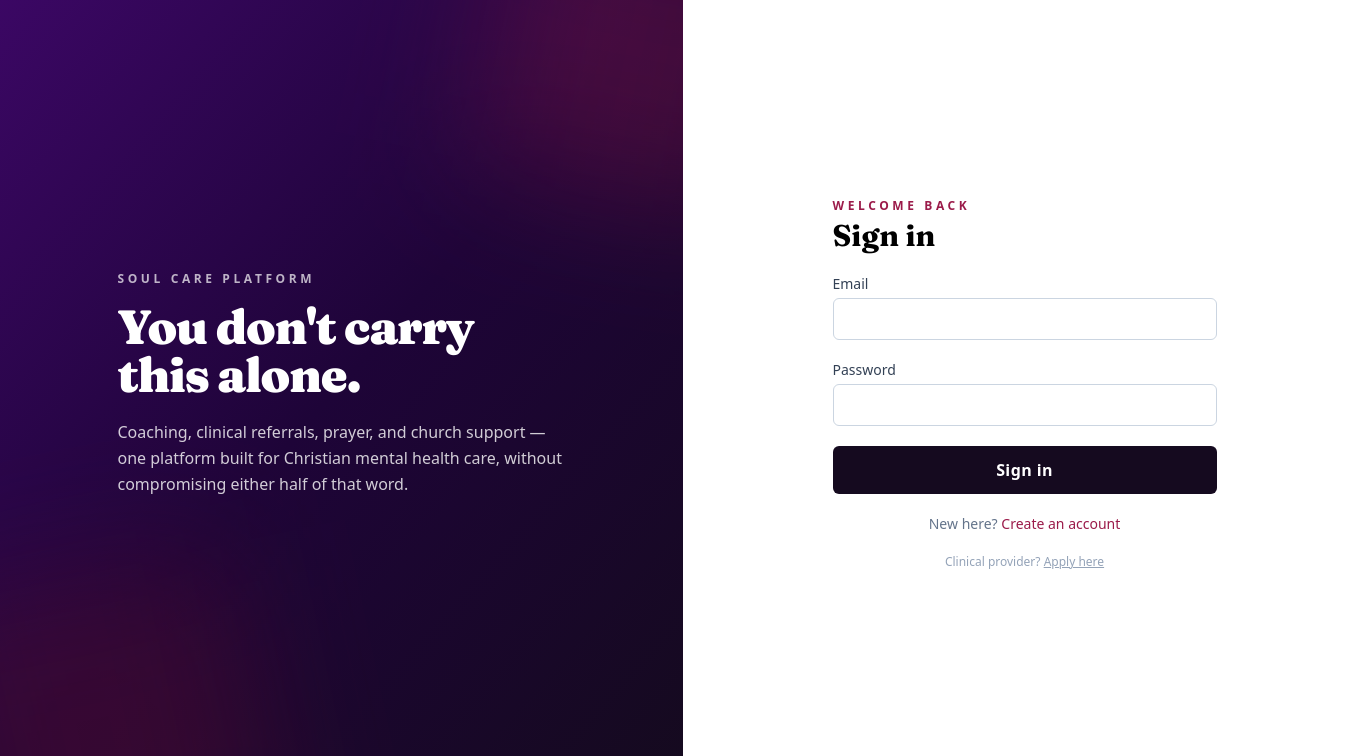
it: App — login flow › logs in as a platform admin and reaches the admin dashboard
The width and height of the screenshot is (1366, 756).
In the field labelled "Email": (1024, 319) [832, 298, 1216, 340], type "admin@example.com"
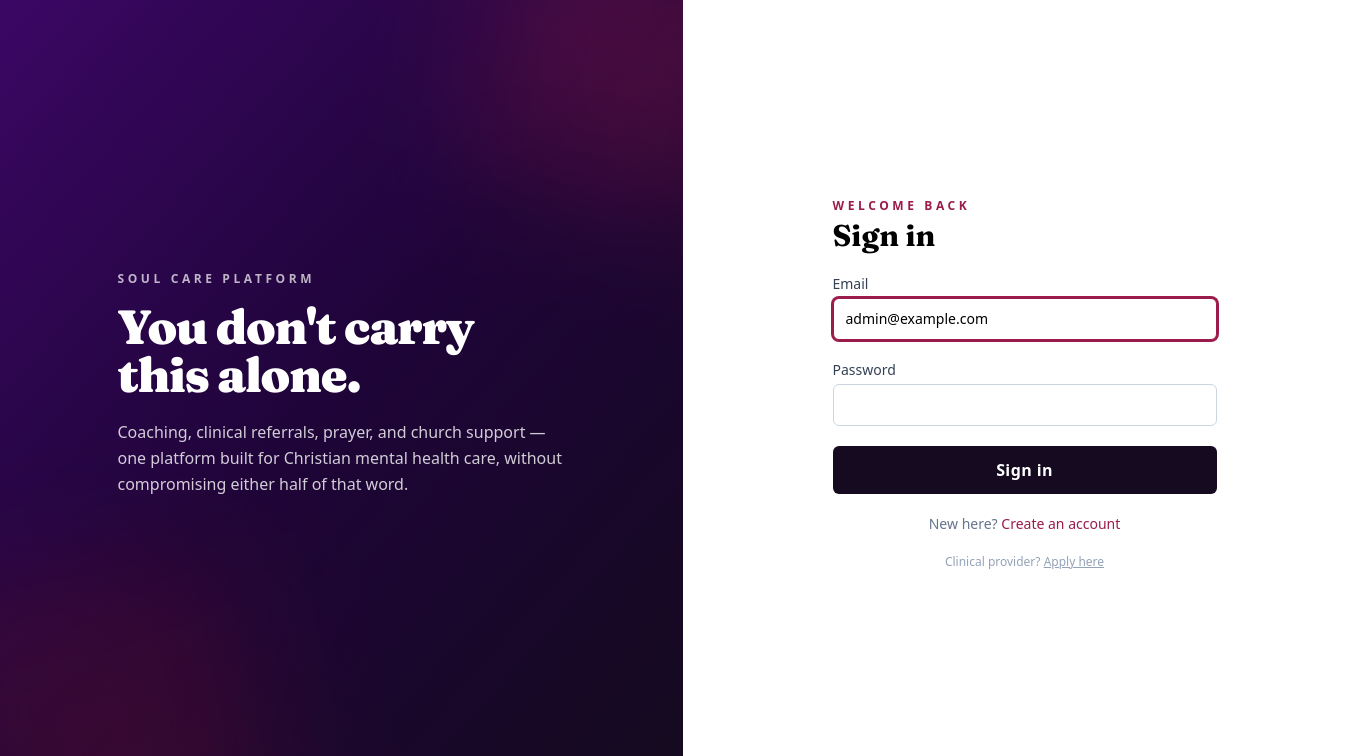
In the password field labelled "Password": (1024, 405) [832, 384, 1216, 426], type "correcthorsebattery"
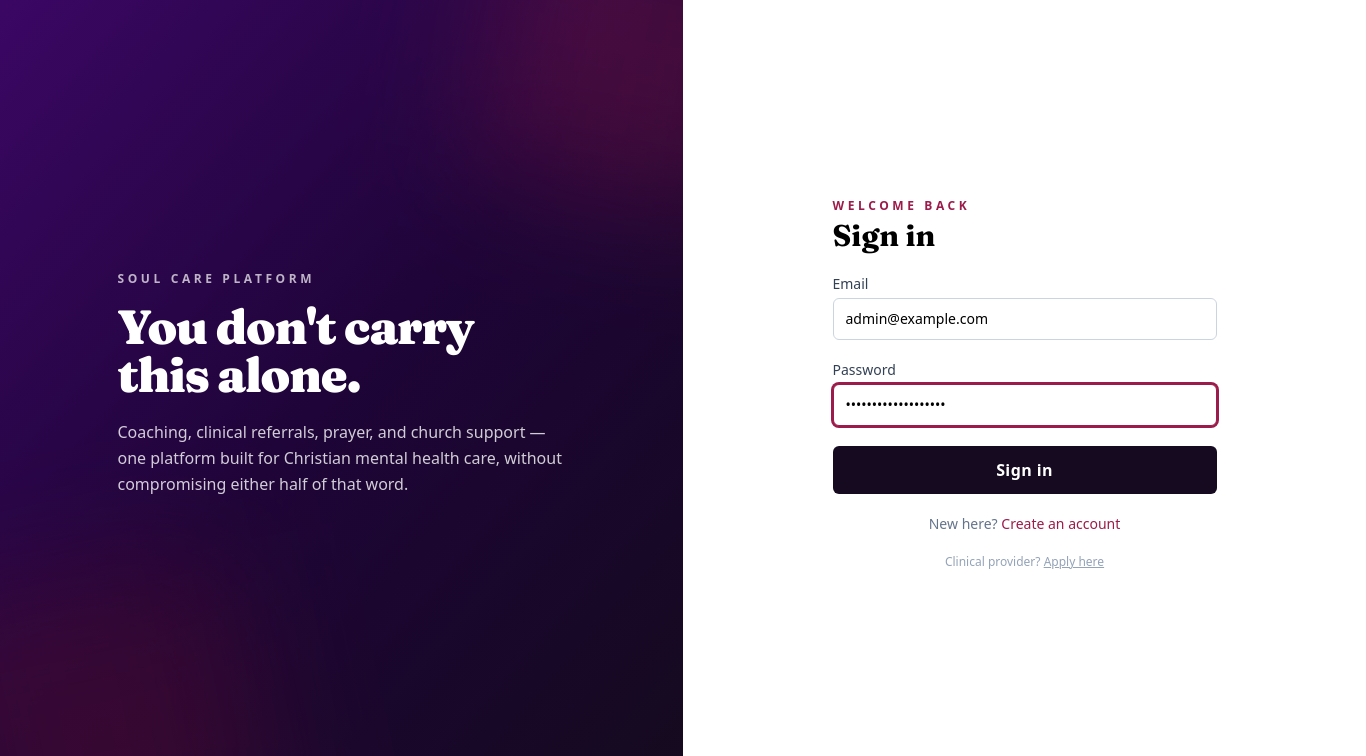
Click the button "Sign in": click(1024, 470) [832, 446, 1216, 494]
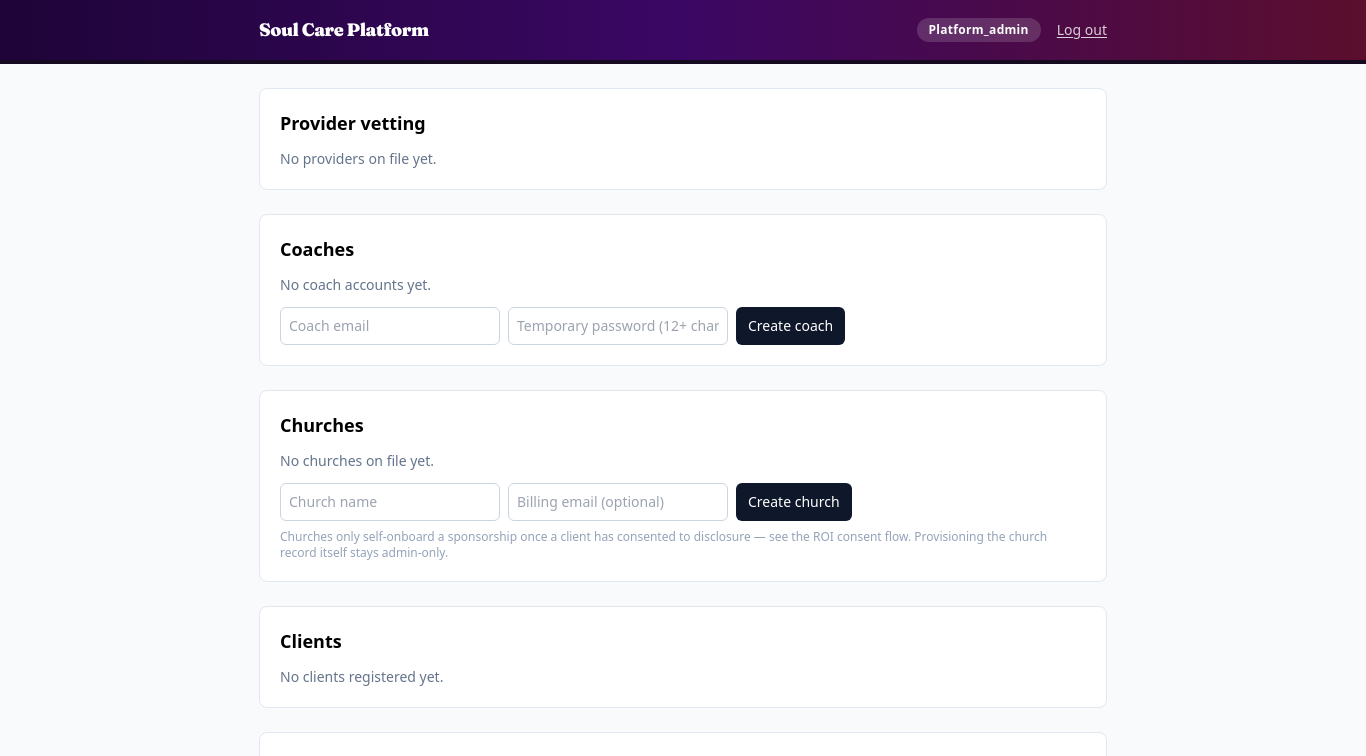
Expected: the heading "Provider vetting" is shown, [280, 111, 426, 135]
Expected: the heading "Coaches" is shown, [280, 237, 354, 261]
Expected: the heading "Churches" is shown, [280, 413, 364, 437]
